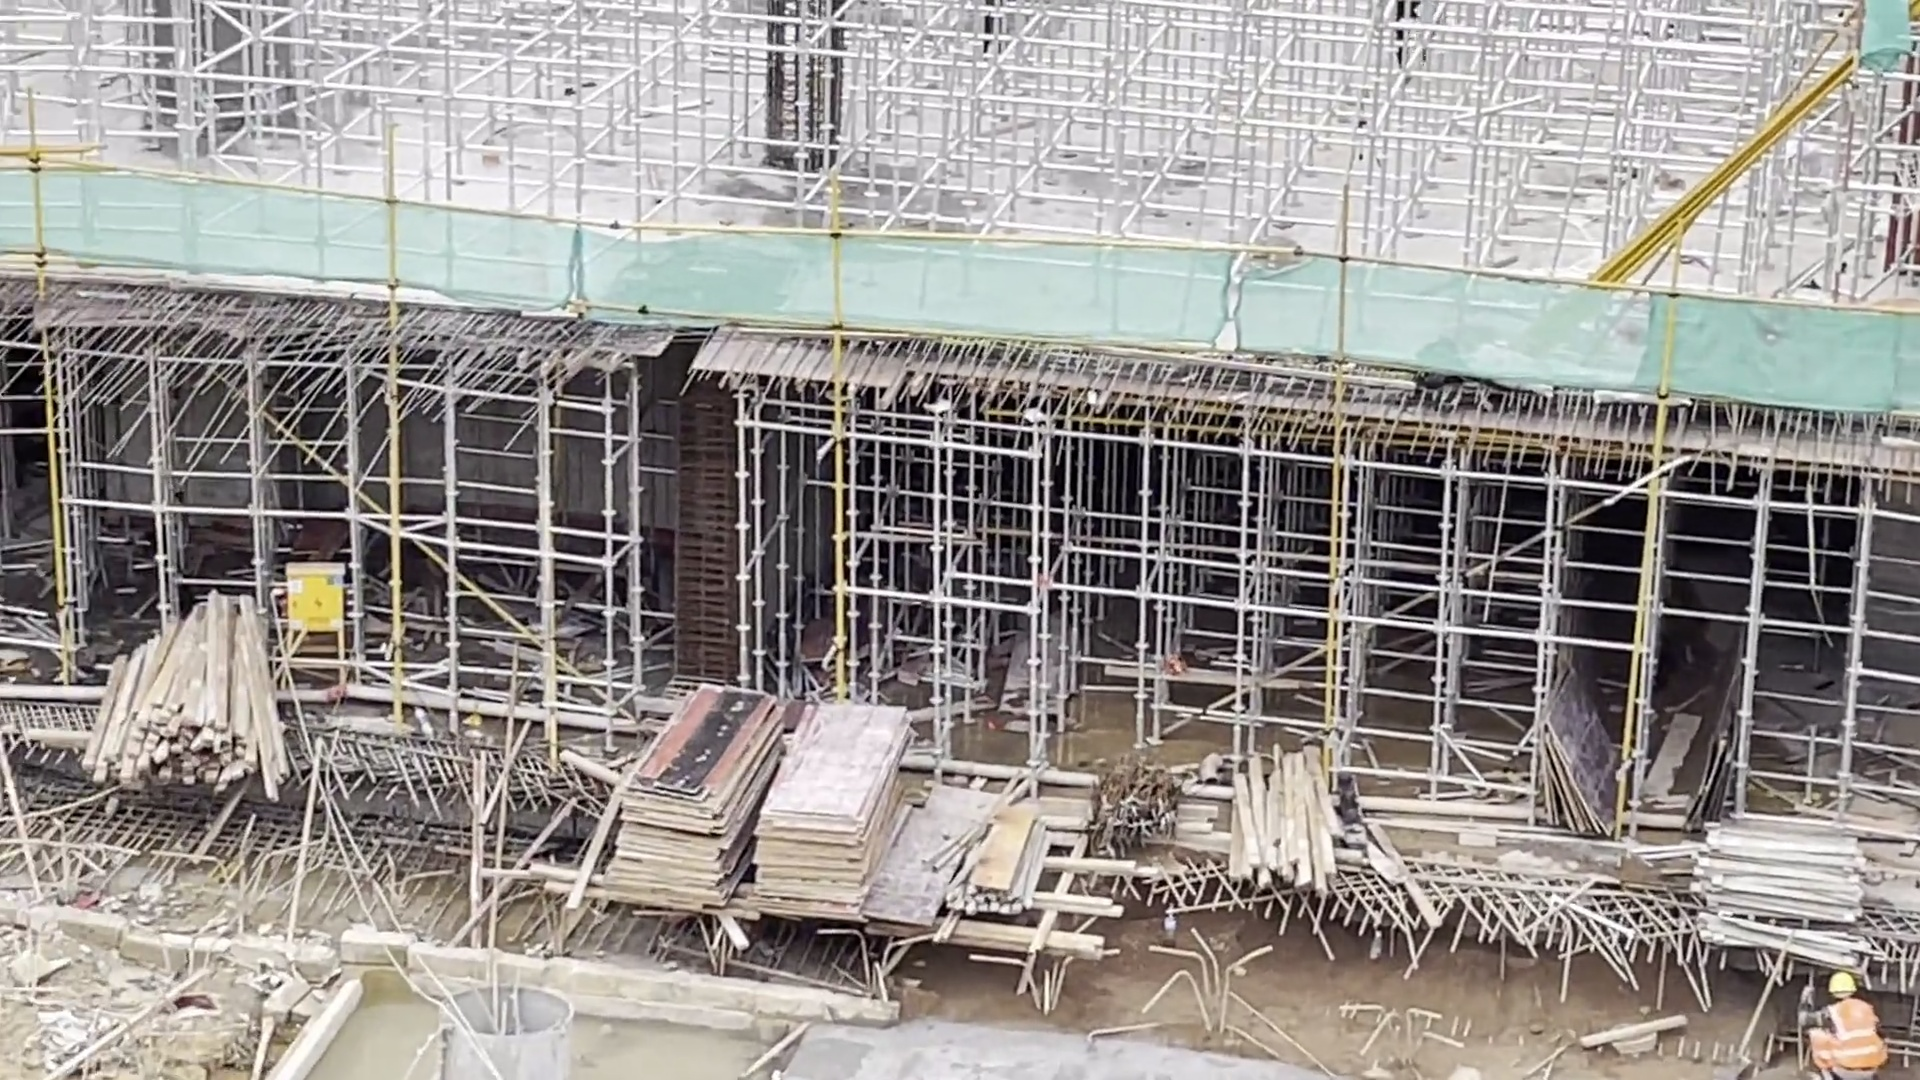board: (600, 681, 777, 905), (755, 692, 911, 919)
ebox: (280, 558, 348, 693)
helmet: (1825, 972, 1858, 996)
person: (1807, 968, 1888, 1080)
rebar: (1082, 754, 1188, 856)
vest: (1806, 999, 1890, 1070)
wood: (78, 577, 286, 808), (1237, 732, 1340, 897)
